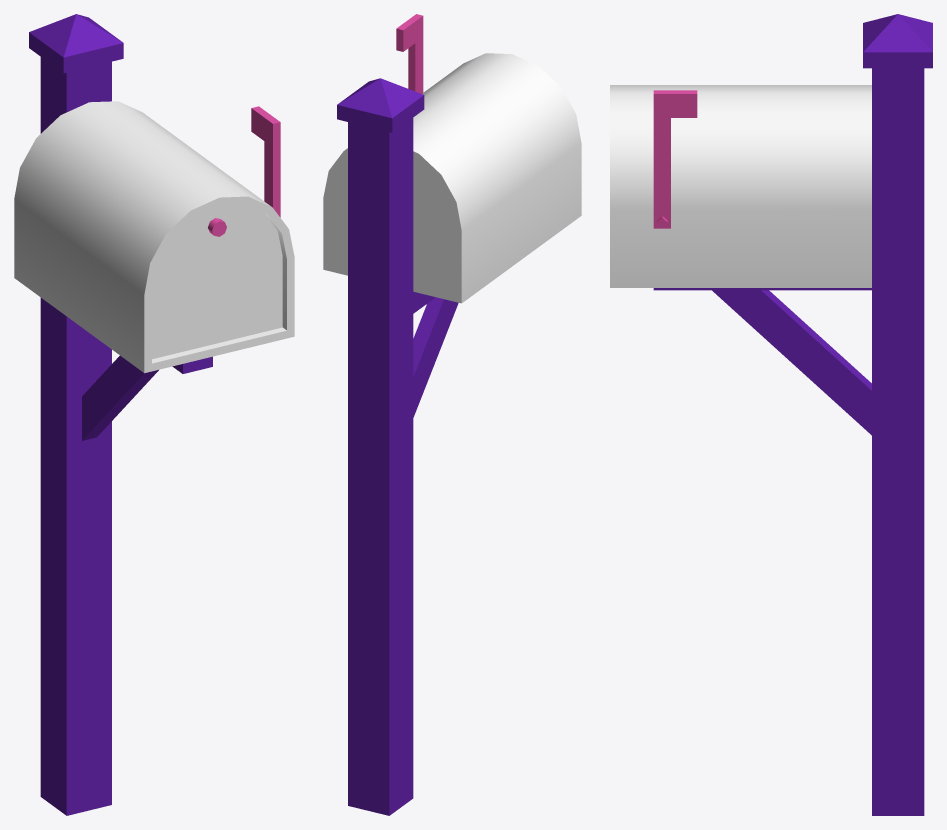
File: mailbox.glb
3 renders of one model, left to right at view 1: azimuth 30°, elevation 25°; view 2: azimuth 150°, elevation 25°; view 3: azimuth 270°, elevation 25°, orthographic. The views are drawn at different scales.
Parts seen in each view (by area): view 1: MAILBOX; view 2: MAILBOX; view 3: MAILBOX.
Boxes of the visible parts, left/top/right/bottom form: MAILBOX: left=14, top=14, right=294, bottom=815; MAILBOX: left=323, top=14, right=581, bottom=815; MAILBOX: left=610, top=14, right=932, bottom=815.
Bounding box in the file's own units: 0.43 × 2 × 0.74.
